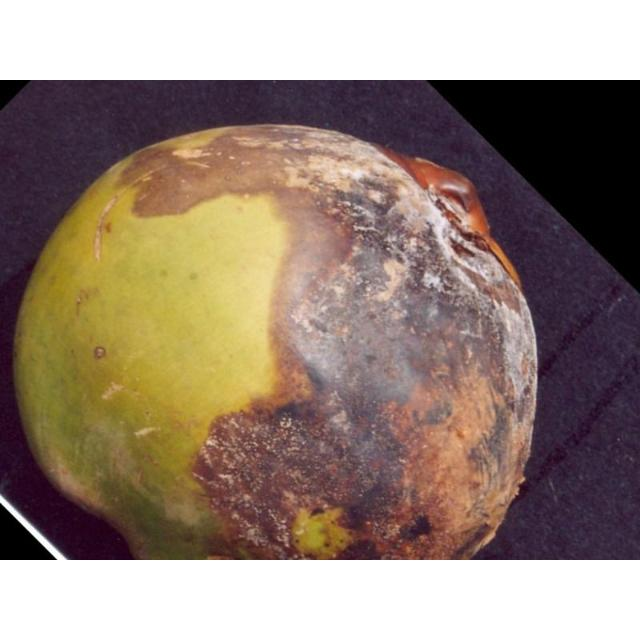damaged: (14, 125, 537, 559)
